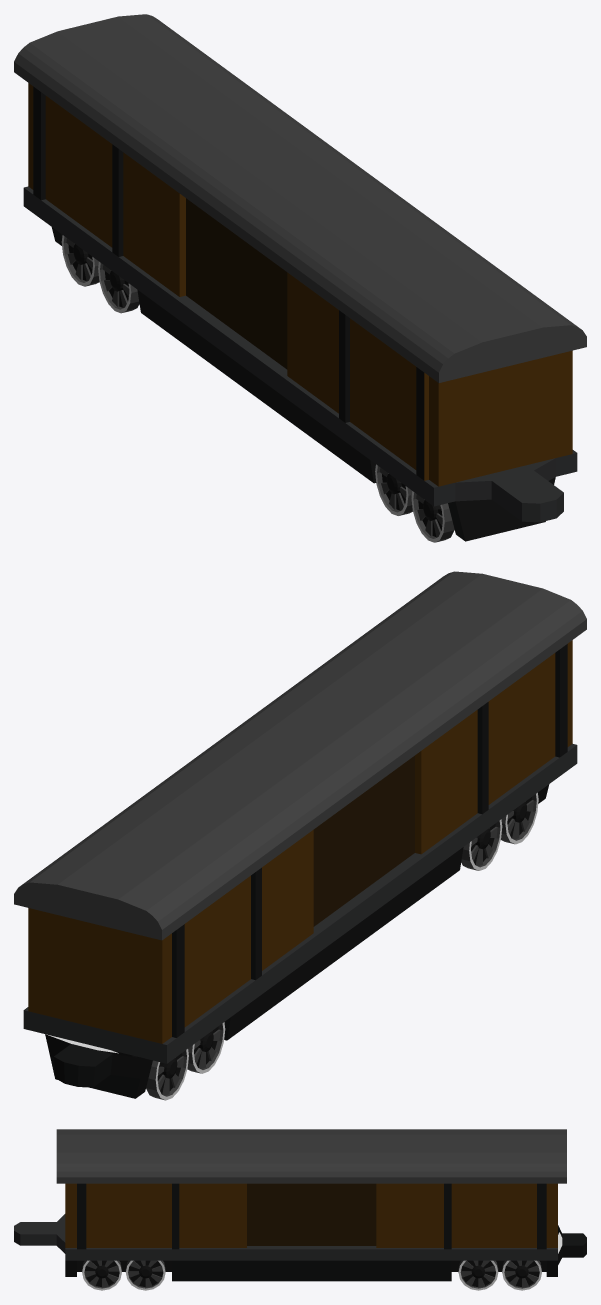
File: CarAcc.fbx
3 views of the same model, one above another, from view 1: azimuth 30°, elevation 25°; view 2: azimuth 150°, elevation 25°; view 3: azimuth 270°, elevation 25° (orthographic). The views are drawn at different scales.
Visible parts, largest first — view 1: Cube.011, Cylinder.029, Cylinder.031, Cylinder.030, Cylinder.032; view 2: Cube.011, Cylinder.032, Cylinder.030, Cylinder.031, Cylinder.029; view 3: Cube.011, Cylinder.030, Cylinder.031, Cylinder.029, Cylinder.032, Cube.046.
Part boxes in pixels (<box>): Cube.011: <box>14,14,586,541</box>; Cylinder.029: <box>411,491,454,542</box>; Cylinder.031: <box>98,261,139,313</box>; Cylinder.030: <box>375,464,412,515</box>; Cylinder.032: <box>61,235,99,286</box>; Cube.011: <box>14,571,586,1098</box>; Cylinder.032: <box>146,1049,188,1100</box>; Cylinder.030: <box>461,819,502,870</box>; Cylinder.031: <box>187,1022,225,1073</box>; Cylinder.029: <box>501,792,538,844</box>; Cube.011: <box>14,1129,586,1281</box>; Cylinder.030: <box>125,1260,165,1290</box>; Cylinder.031: <box>458,1260,498,1290</box>; Cylinder.029: <box>82,1260,121,1290</box>; Cylinder.032: <box>502,1260,541,1290</box>; Cube.046: <box>77,1260,546,1271</box>.
Size of the model in its own units: 282 by 404 by 1575.
